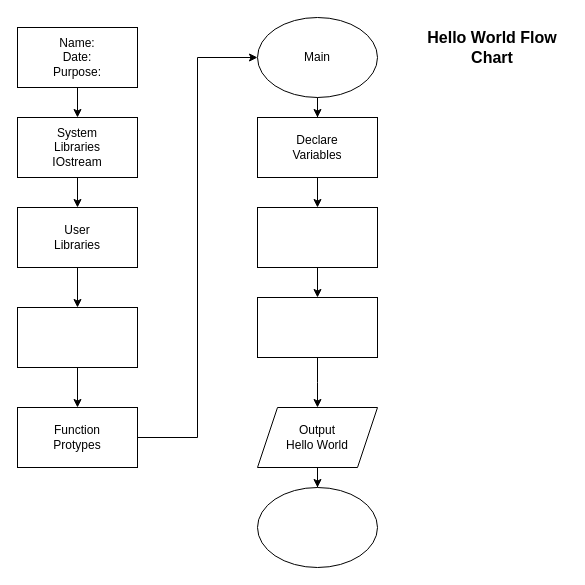
Image size: 585x585. Some labels were removed from this diagram. Each missing label, with the centre of its shape:
Global Constants: (77,337)
Initializes Variables: (317,237)
Map inputs to outputs: (317,327)
Return: (317,527)
